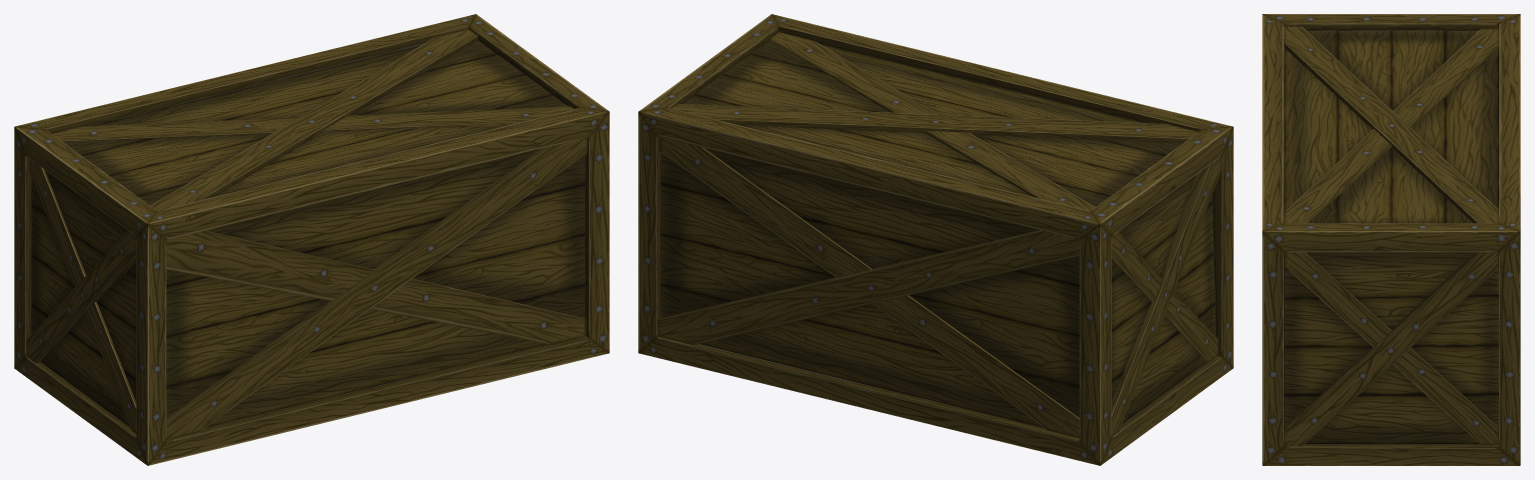
Rendered from longCrateV1.fbx.
The picture shows the model from 3 angles, left to right: view 1: azimuth 30°, elevation 25°; view 2: azimuth 150°, elevation 25°; view 3: azimuth 270°, elevation 25°; orthographic projection. The views are drawn at different scales.
Parts seen in each view (by area): view 1: longCrateV1_obj; view 2: longCrateV1_obj; view 3: longCrateV1_obj.
Boxes of the visible parts, x1,y1,x2,y2 form: longCrateV1_obj: (14,14,609,465); longCrateV1_obj: (638,14,1233,465); longCrateV1_obj: (1262,14,1520,465).
Bounding box in the file's own units: 1 × 0.501 × 0.501.
